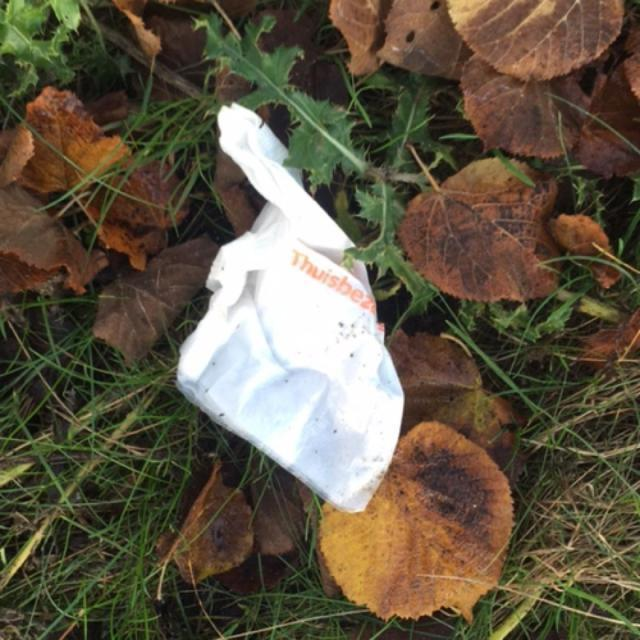Paper: (172, 100, 408, 517)
